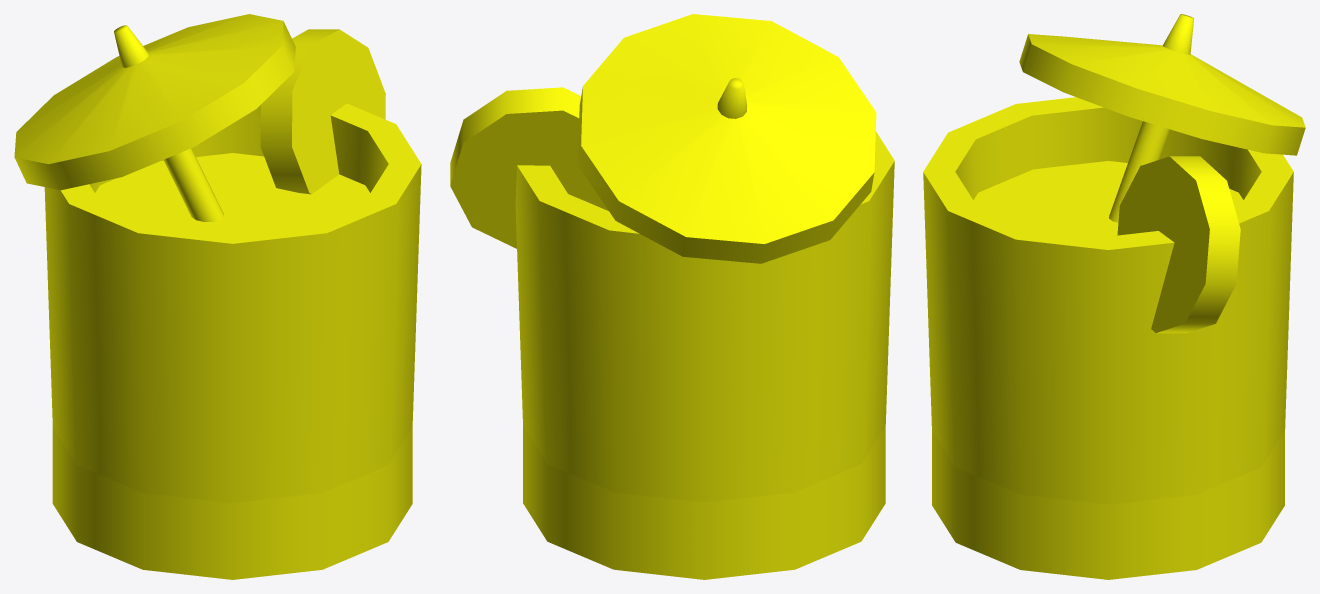
File: cocktail.glb
The picture shows the model from 3 angles, left to right: view 1: azimuth 30°, elevation 25°; view 2: azimuth 150°, elevation 25°; view 3: azimuth 270°, elevation 25°; orthographic projection. The views are drawn at different scales.
Parts seen in each view (by area): view 1: cocktail; view 2: cocktail; view 3: cocktail.
Part boxes in pixels (x1,y1,x2,y2): cocktail: (14, 14, 421, 579); cocktail: (450, 14, 894, 579); cocktail: (923, 14, 1305, 579).
Bounding box in the file's own units: 1 × 1.18 × 0.8945.
1 material, 1 textured.
